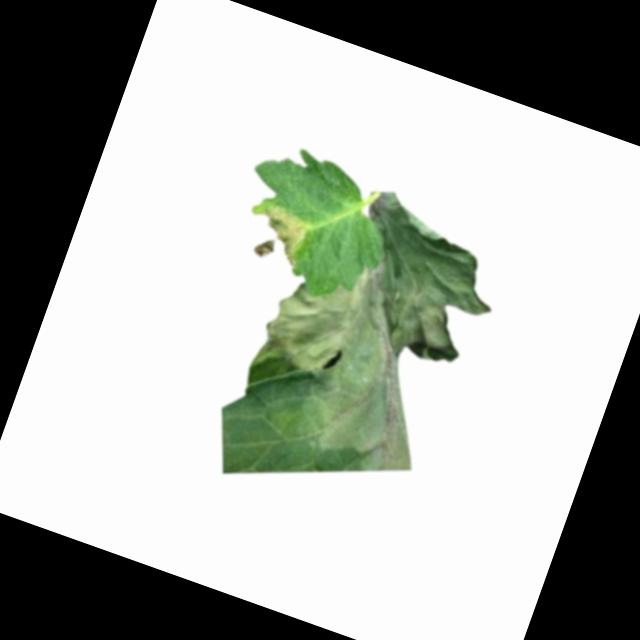Late_blight: (230, 168, 516, 488), (244, 200, 317, 272)
